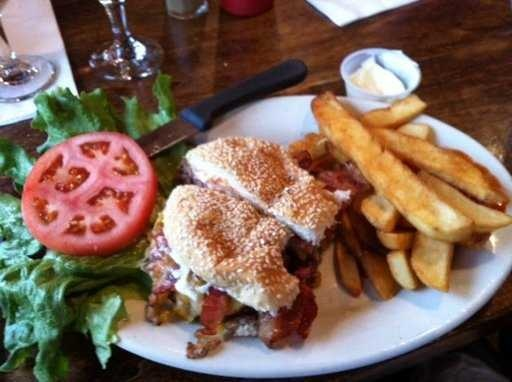hamburger: (151, 107, 309, 339)
